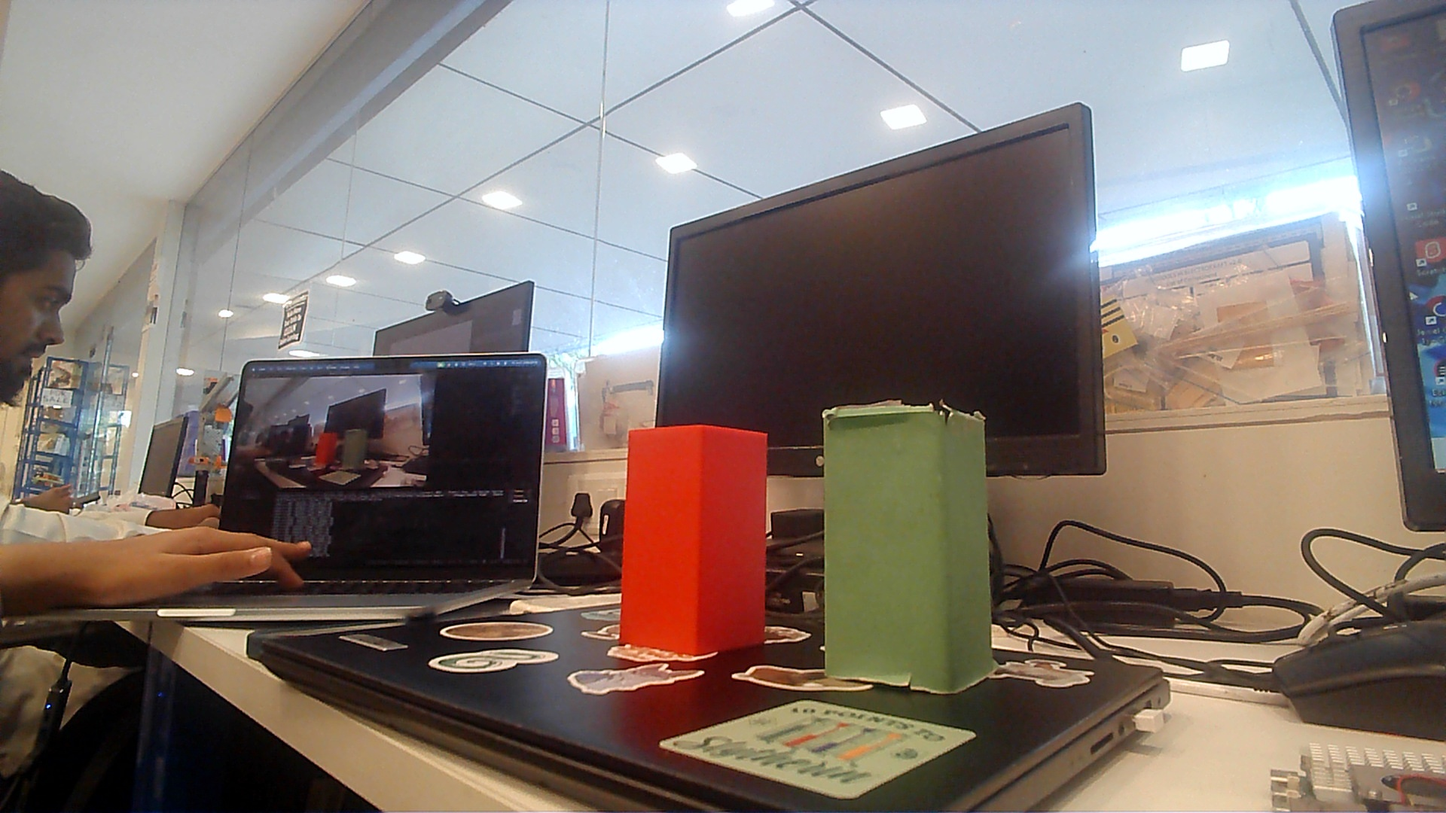green: (826, 408, 981, 692)
